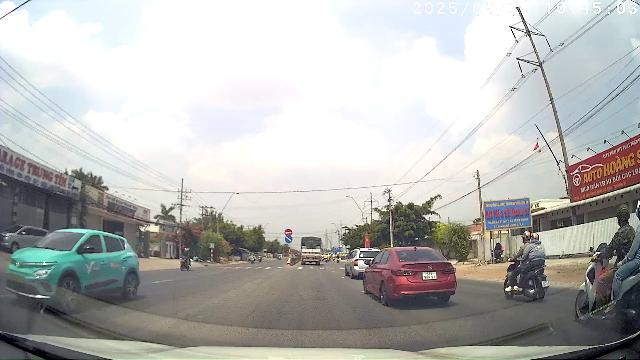102-cam-di-nguoc-chieu: (284, 229, 292, 236)
302a-huong-phai-di-vong-chuong-ngai-vat-1: (285, 236, 293, 242)
